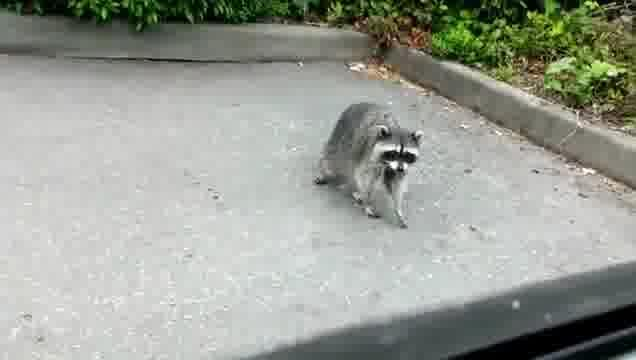raccoon: (312, 102, 422, 230)
